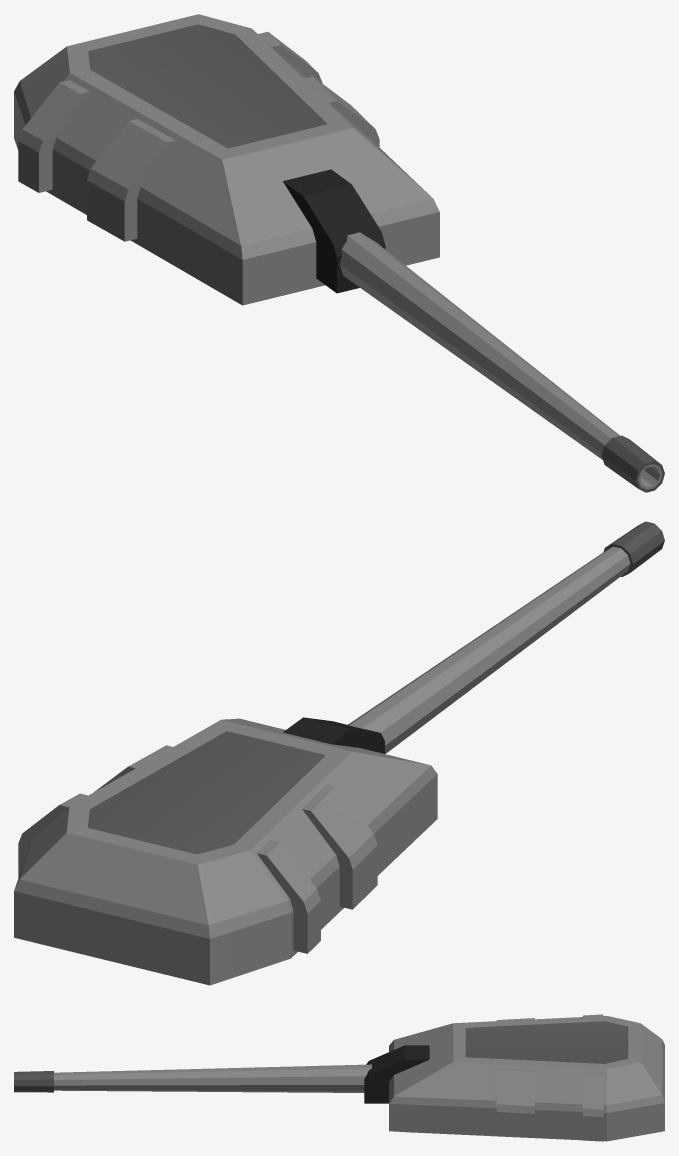
File: model_polyfleet_battleship_canon02.fbx
3 views of the same model, one above another, from view 1: azimuth 30°, elevation 25°; view 2: azimuth 150°, elevation 25°; view 3: azimuth 270°, elevation 25° (orthographic). The views are drawn at different scales.
Visible parts, largest first — view 1: model_cannon02, model_cannon_small_barrels; view 2: model_cannon02, model_cannon_small_barrels; view 3: model_cannon02, model_cannon_small_barrels.
Part boxes in pixels (x1,y1,x2,y2): model_cannon02: (14,14,439,305); model_cannon_small_barrels: (339,232,664,492); model_cannon02: (14,717,437,985); model_cannon_small_barrels: (348,521,664,753); model_cannon02: (364,1014,664,1141); model_cannon_small_barrels: (14,1064,371,1092).
Bounding box in the file's own units: 263 × 91.26 × 844.
